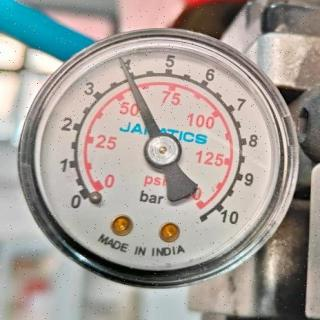gauge: (7, 27, 305, 305), (142, 132, 182, 168), (190, 196, 230, 232), (78, 178, 108, 210), (113, 52, 127, 68)
